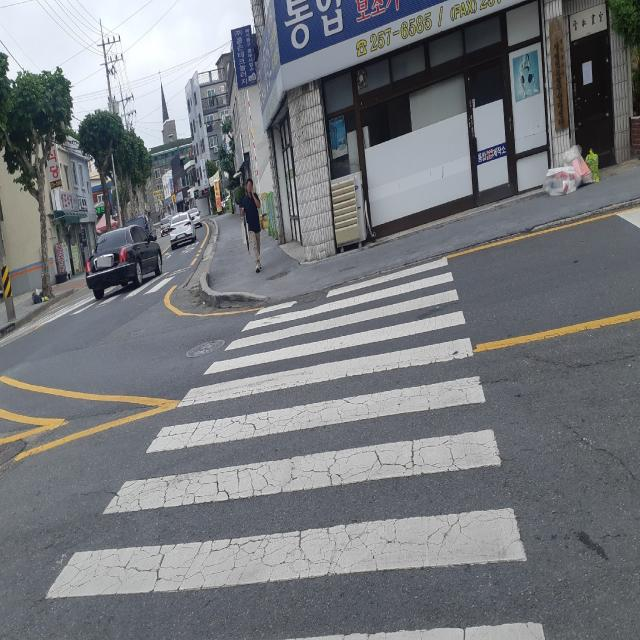횡단보도: (44, 255, 547, 640)
